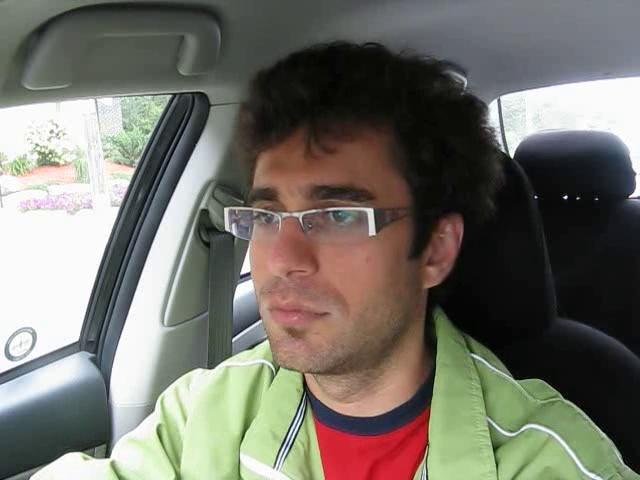no_yawn: (247, 292, 346, 339)
open_eyeL: (240, 198, 288, 237)
open_eyeR: (307, 193, 384, 243)
